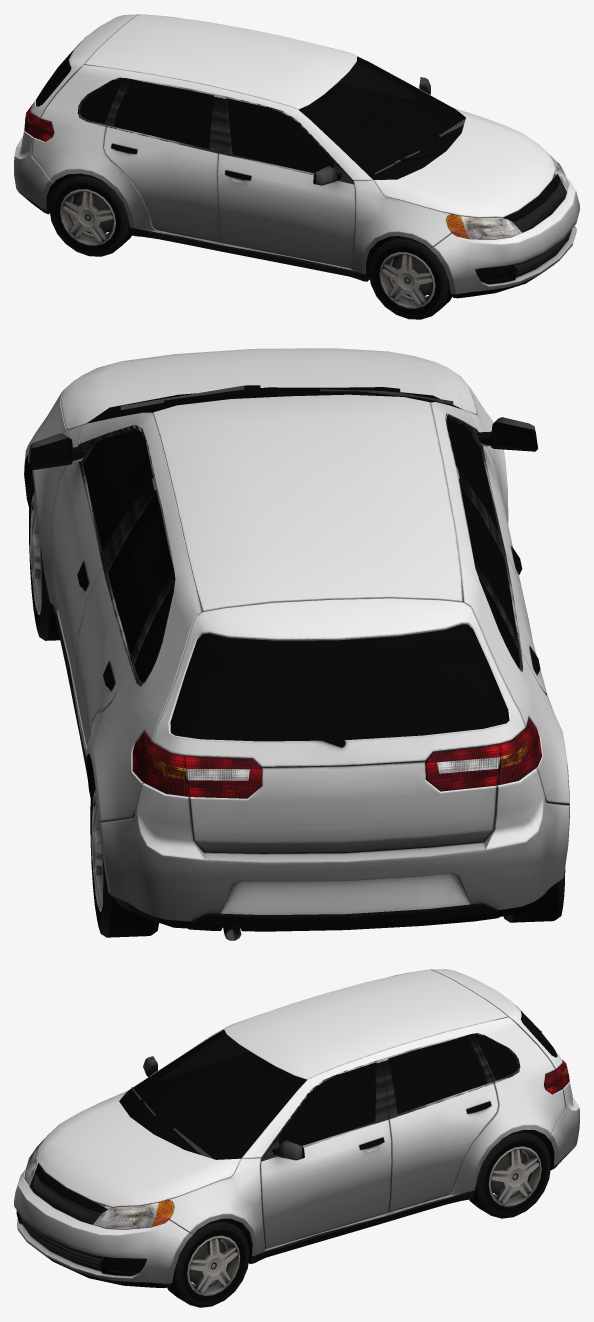
The model's file is hatchback.glb.
The picture shows the model from 3 angles, top to bottom: view 1: azimuth 30°, elevation 25°; view 2: azimuth 150°, elevation 25°; view 3: azimuth 270°, elevation 25°; orthographic projection. The views are drawn at different scales.
Visible parts, largest first — view 1: Hatchback Body, Wheel_B002, Wheel_B003; view 2: Hatchback Body, Wheel_B001, Wheel_B, Wheel_B003; view 3: Hatchback Body, Wheel_B, Wheel_B001.
Boxes of the visible parts, x1,y1,x2,y2 form: Hatchback Body: (14, 14, 579, 298); Wheel_B002: (369, 236, 452, 319); Wheel_B003: (49, 173, 131, 256); Hatchback Body: (24, 348, 569, 940); Wheel_B001: (90, 772, 158, 937); Wheel_B: (29, 473, 59, 640); Wheel_B003: (503, 868, 565, 922); Hatchback Body: (14, 969, 579, 1287); Wheel_B: (167, 1218, 249, 1307); Wheel_B001: (469, 1130, 550, 1218).
Size of the model in its own units: 3.11 by 1.35 by 3.7.
Materials: 4 (3 with a texture image).
